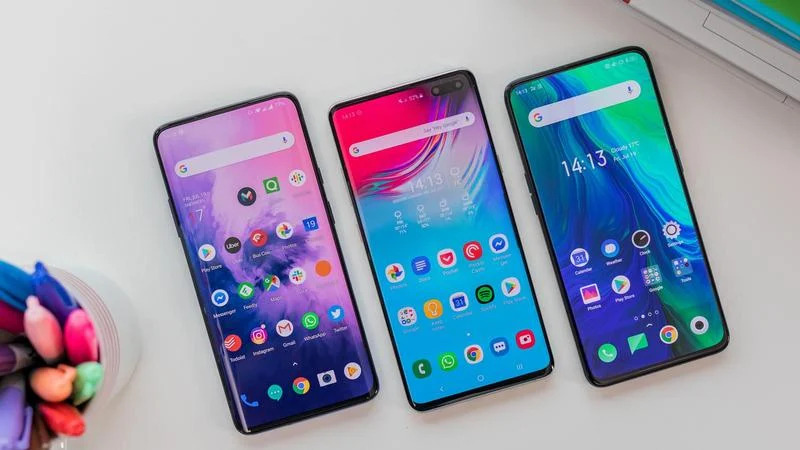phones: (501, 47, 748, 398), (320, 67, 560, 422), (148, 88, 387, 439)
